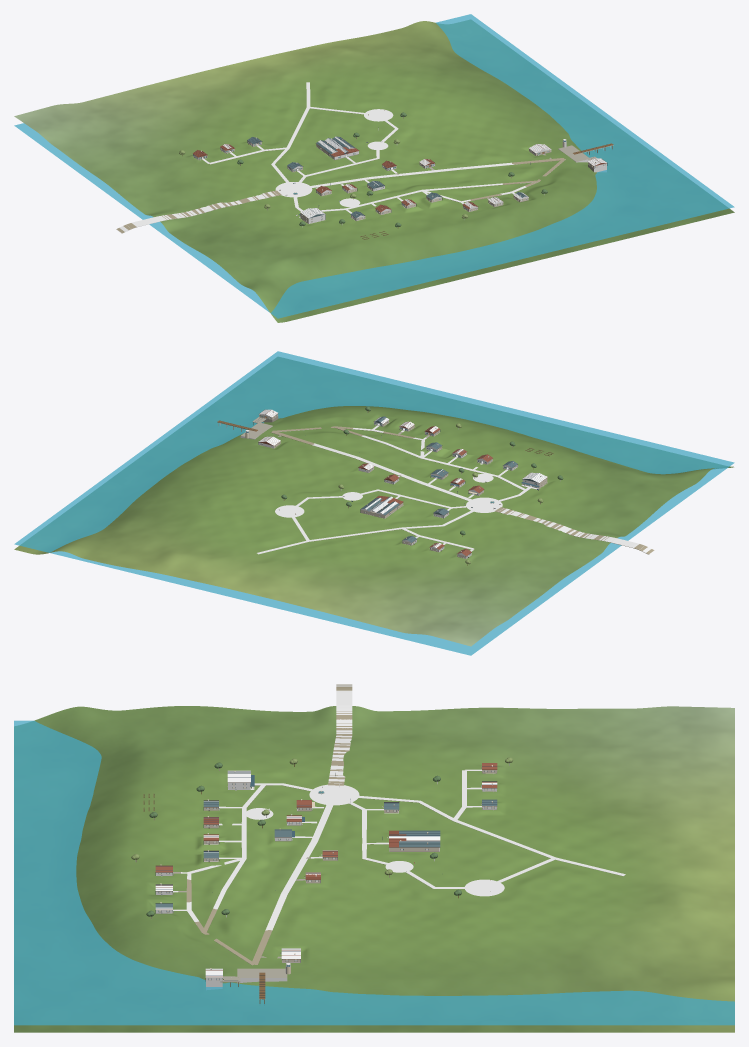
File: world_home.glb
3 views of the same model, one above another, from view 1: azimuth 30°, elevation 25°; view 2: azimuth 150°, elevation 25°; view 3: azimuth 270°, elevation 25° (orthographic). The views are drawn at different scales.
Visible parts, largest first — view 1: Terrain, Water, COL_Props, home_Buildings, home_Routes; view 2: Terrain, Water, COL_Props, home_Buildings, home_Routes; view 3: Terrain, Water, COL_Props, home_Buildings, home_Routes, home_Harbour, home_Trees_Leaves.
Part boxes in pixels (x1,y1,x2,y2): Terrain: (14, 20, 734, 322); Water: (14, 14, 734, 318); COL_Props: (116, 82, 613, 233); home_Buildings: (193, 136, 607, 223); home_Routes: (116, 113, 565, 233); Terrain: (14, 357, 733, 646); Water: (14, 351, 734, 655); COL_Props: (218, 409, 654, 558); home_Buildings: (258, 410, 547, 558); home_Routes: (271, 426, 654, 554); Terrain: (14, 706, 734, 1032); Water: (14, 720, 734, 1025); COL_Props: (135, 684, 625, 999); home_Buildings: (155, 763, 497, 981); home_Routes: (186, 684, 465, 965); home_Harbour: (220, 965, 290, 1004); home_Trees_Leaves: (131, 757, 513, 979).
Size of the model in its own units: 780 by 35.85 by 720.
